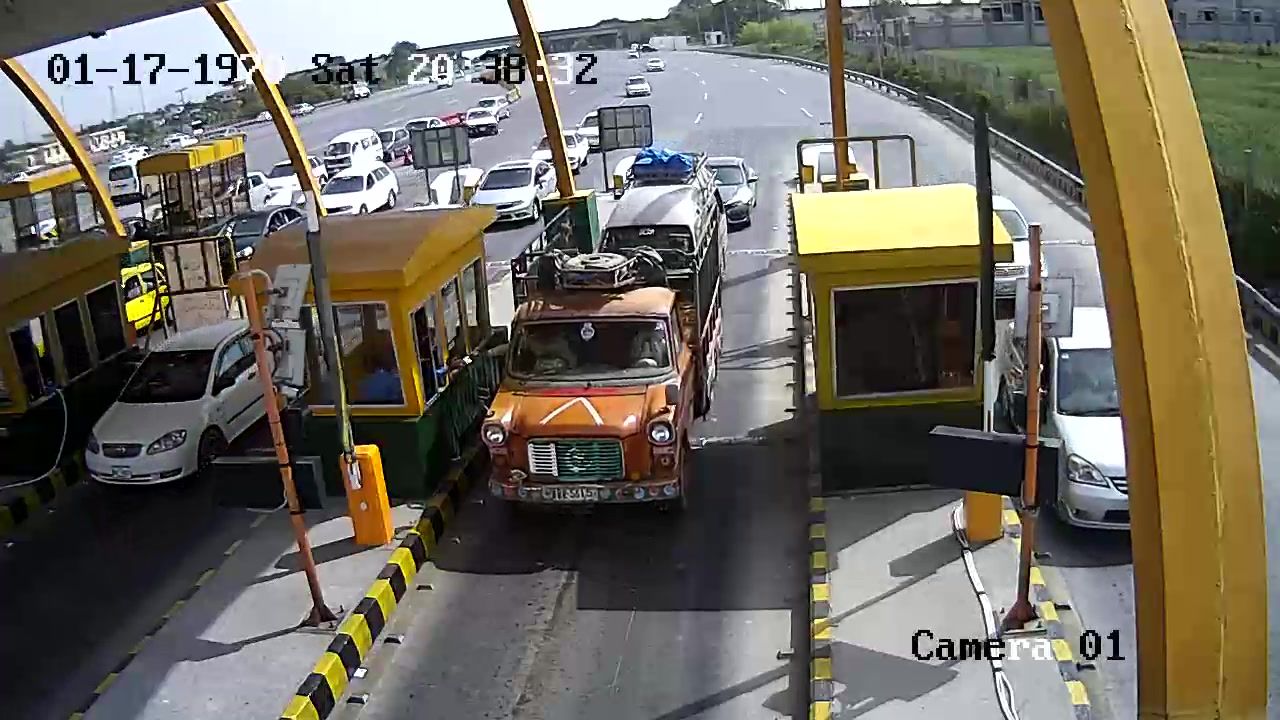F2: (480, 201, 734, 520)
